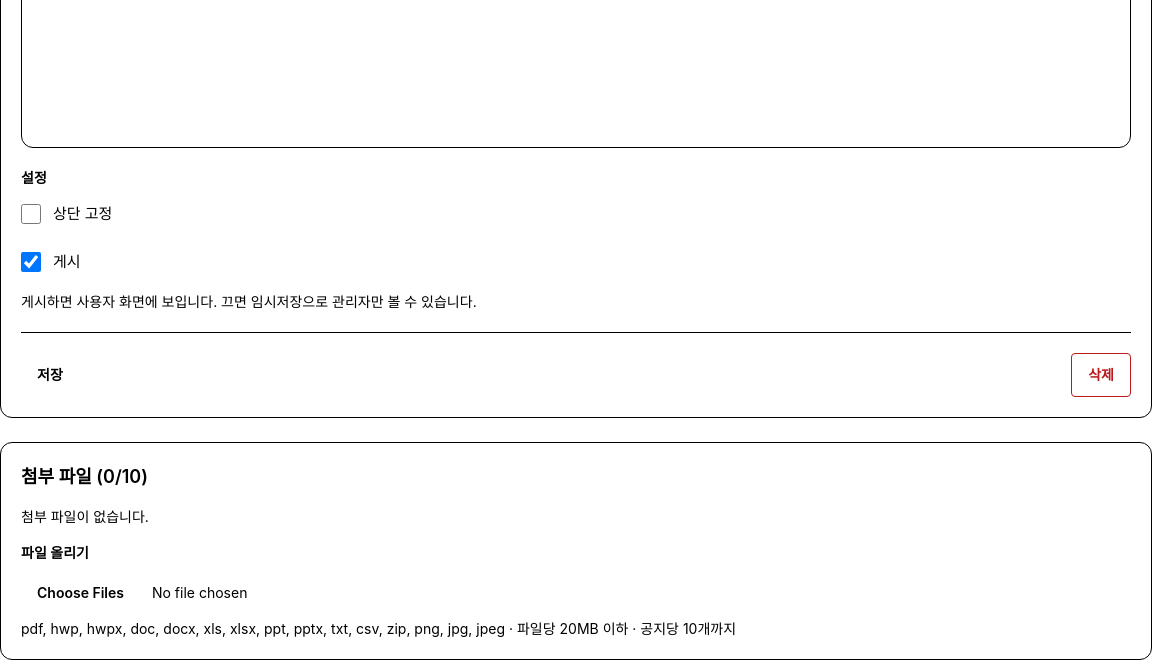
Test: NoticeForm › 액션이 돌려준 오류 문구를 보여 준다
This screenshot has width=1152, height=660.
(page scrolled)
Click the button "저장" at (50, 375), box [21,353,79,397]
(page scrolled)
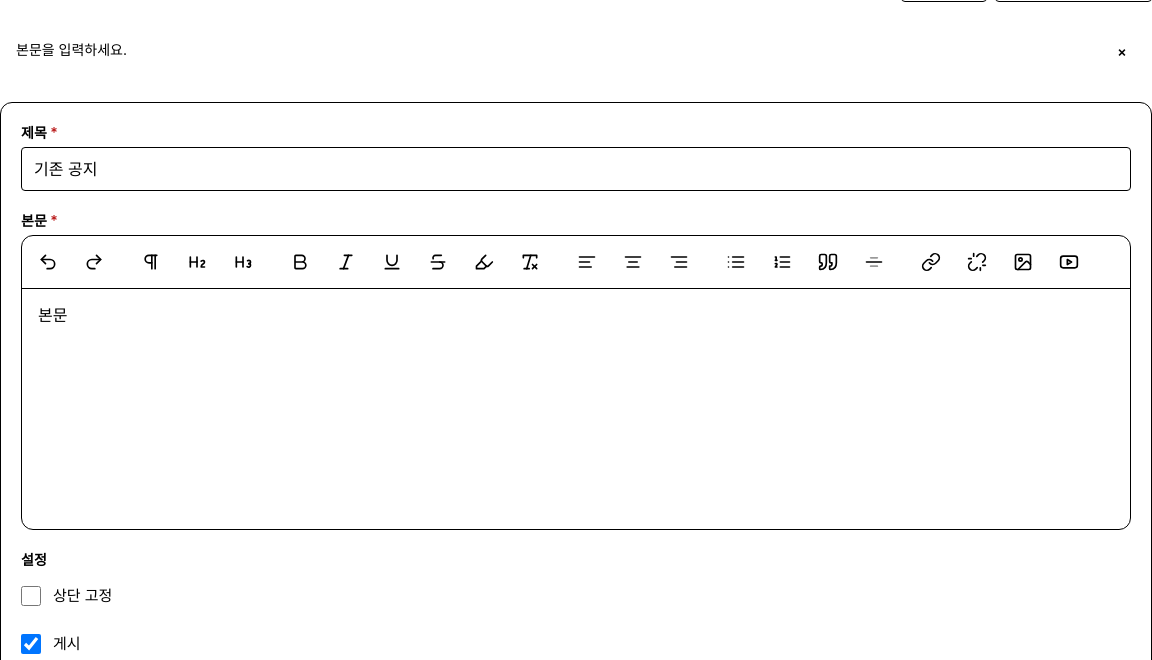
Now the message shows "본문을 입력하세요.", box [16,41,127,58]
